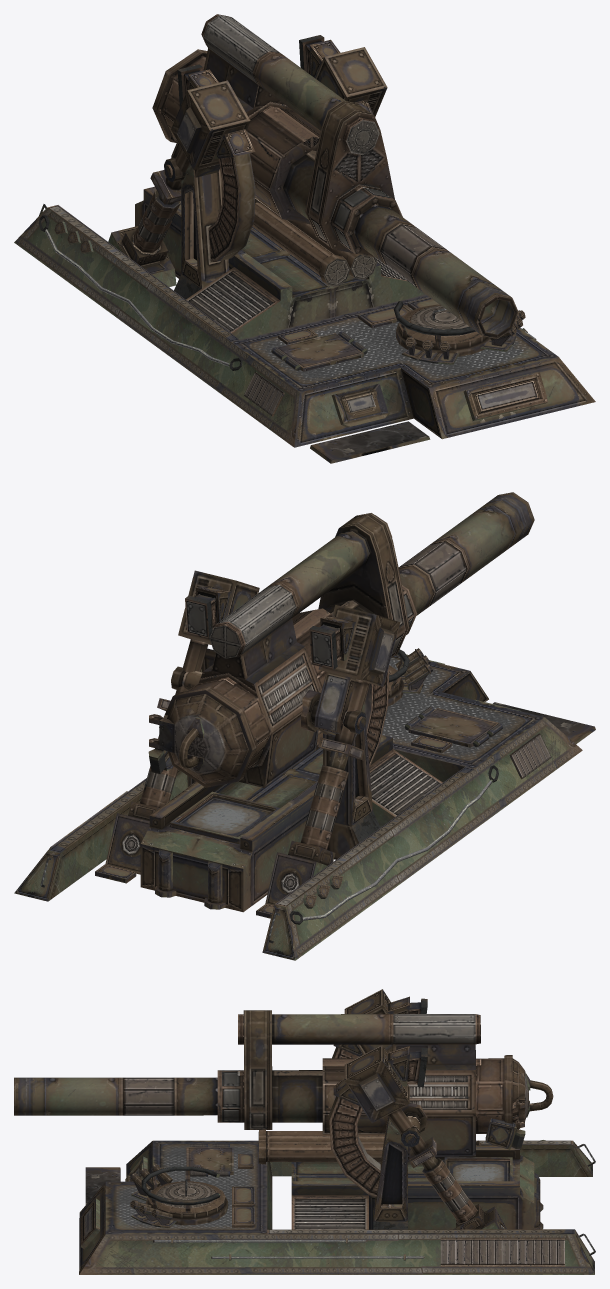
File: artillery_turret_variation.fbx
3 views of the same model, one above another, from view 1: azimuth 30°, elevation 25°; view 2: azimuth 150°, elevation 25°; view 3: azimuth 270°, elevation 25° (orthographic). The views are drawn at different scales.
Parts seen in each view (by area): view 1: Final_scene3:basalisk_lowpoly:polySurface10282, polySurface12947; view 2: Final_scene3:basalisk_lowpoly:polySurface10282, polySurface12947; view 3: Final_scene3:basalisk_lowpoly:polySurface10282, polySurface12947.
Part boxes in pixels (left/top/right/bottom): Final_scene3:basalisk_lowpoly:polySurface10282: left=14, top=39, right=595, bottom=463; polySurface12947: left=152, top=14, right=518, bottom=338; Final_scene3:basalisk_lowpoly:polySurface10282: left=14, top=570, right=595, bottom=960; polySurface12947: left=149, top=492, right=534, bottom=787; Final_scene3:basalisk_lowpoly:polySurface10282: left=79, top=989, right=595, bottom=1274; polySurface12947: left=14, top=998, right=553, bottom=1197.
Size of the model in its own units: 114 by 99.87 by 252.
Materials: 1 (1 with a texture image).
